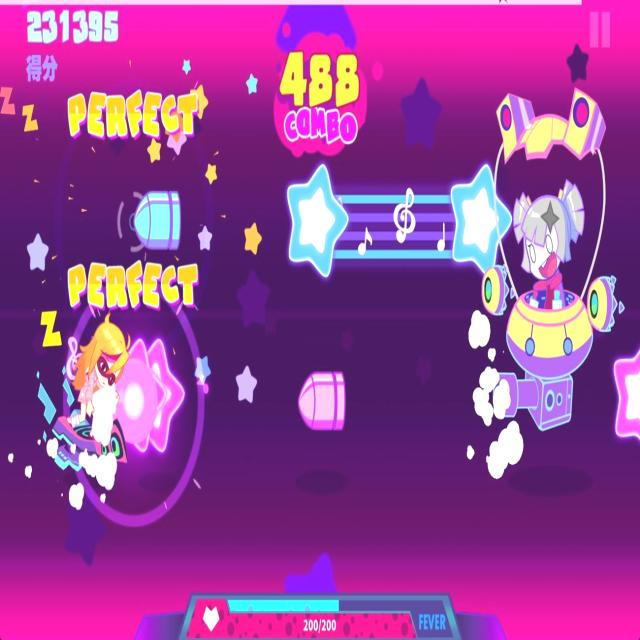hold: (284, 164, 516, 280)
jian: (297, 366, 352, 438), (134, 185, 187, 251)
qiangboss: (478, 91, 628, 438)
